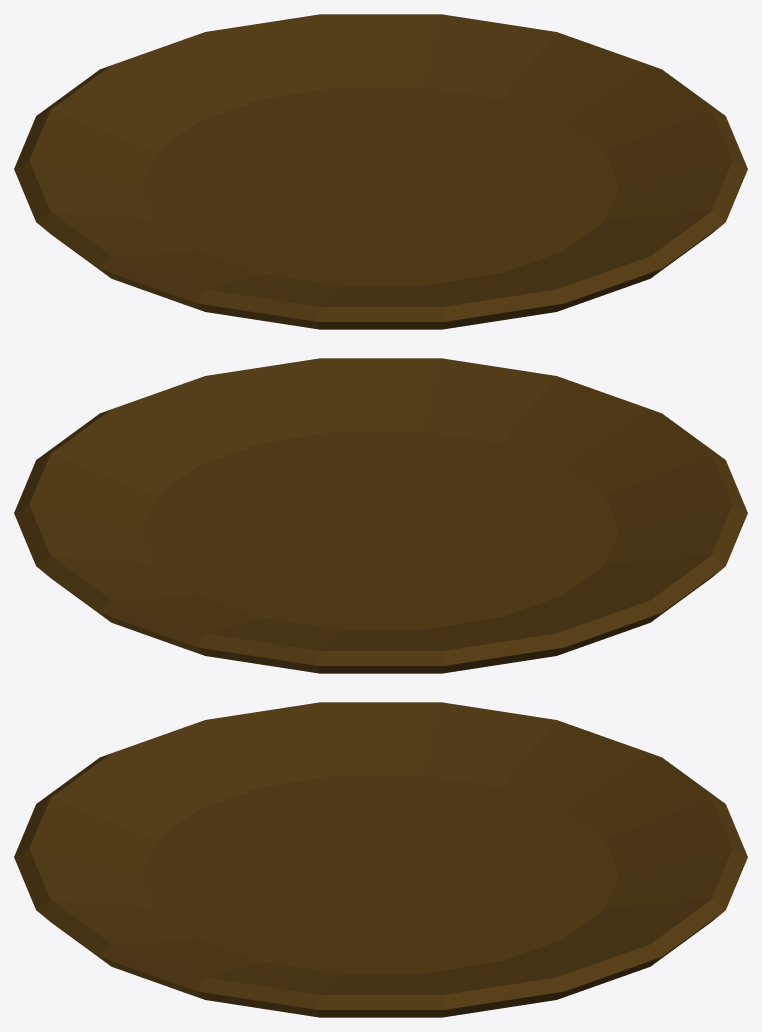
Rendered from Plate_v003(UV_Unwrapped).fbx.
3 views of the same model, one above another, from view 1: azimuth 30°, elevation 25°; view 2: azimuth 150°, elevation 25°; view 3: azimuth 270°, elevation 25° (orthographic).
Visible parts, largest first — view 1: Plate; view 2: Plate; view 3: Plate.
Boxes of the visible parts, x1,y1,x2,y2 form: Plate: [14, 14, 747, 329]; Plate: [14, 358, 747, 673]; Plate: [14, 702, 747, 1017].
Size of the model in its own units: 206 by 19.88 by 209.
